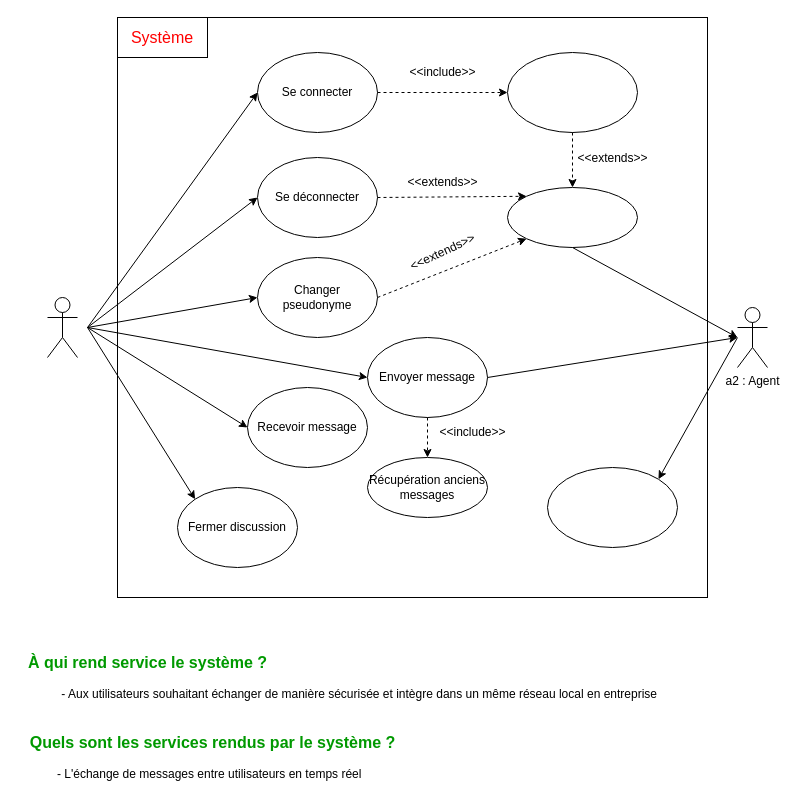
Image size: 796x805. Some labels were removed from this diagram. The shapes that lost their labels are listed below. From the top down, each one's centre as x and y in pixels, then its label:
At point (572, 92): "Saisir pseudonyme".
At point (572, 217): "Notifier autres agents".
At point (62, 327): "a1 : Agent".
At point (612, 507): "Valider pseudonyme".
